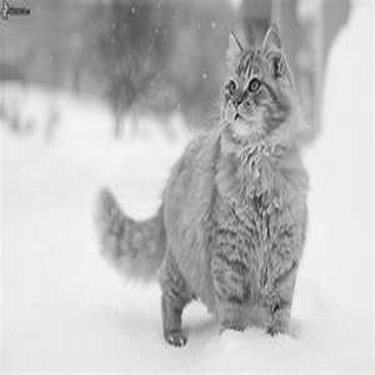cat: (93, 15, 310, 350)
